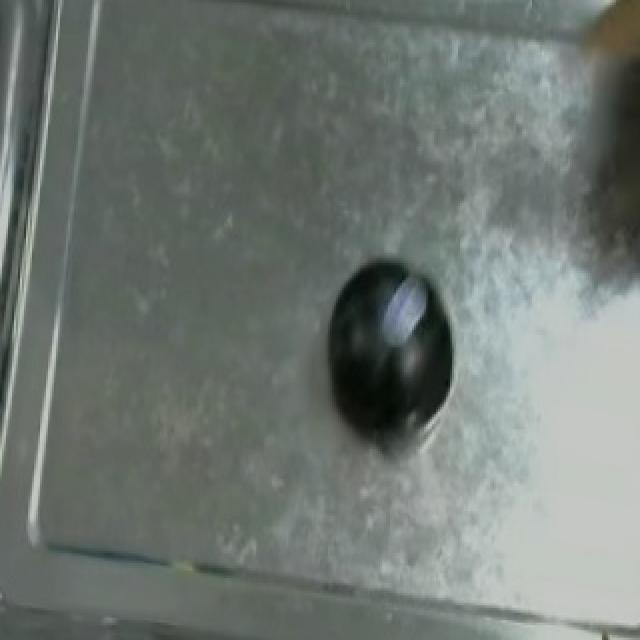Fruit: (306, 238, 484, 459)
